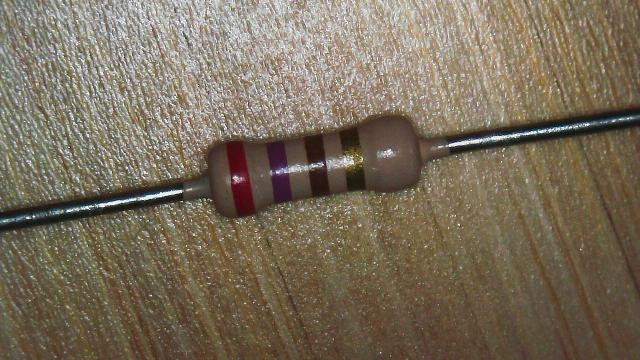brown: (306, 138, 328, 195)
gold: (341, 130, 364, 188)
red: (230, 140, 250, 218)
resistor: (174, 100, 454, 229)
violet: (268, 142, 289, 204)
